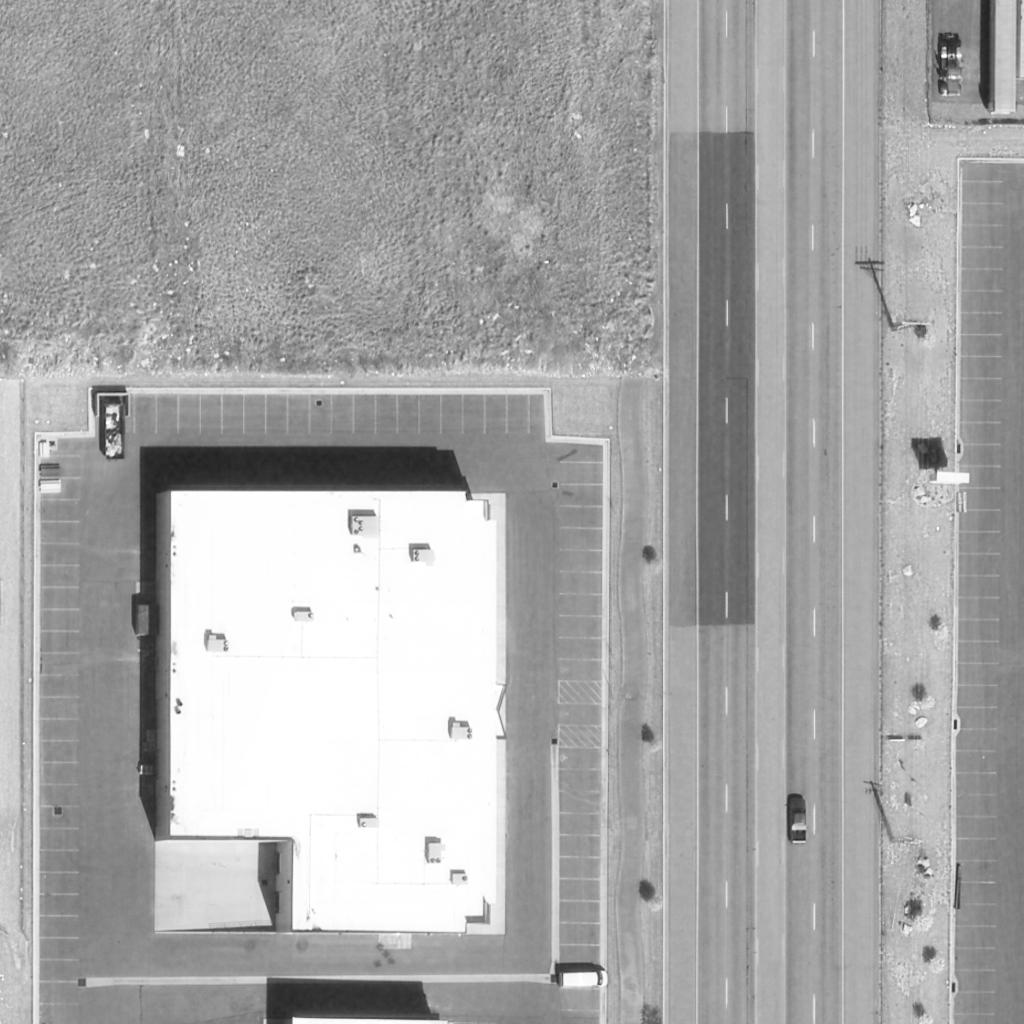vehicle: (938, 34, 964, 96), (788, 797, 808, 843), (559, 971, 609, 989)
